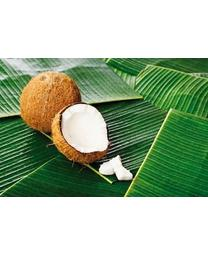coconut: (19, 70, 82, 133), (50, 101, 109, 162)
